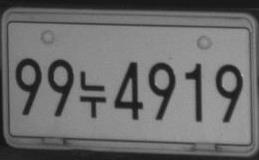1: (181, 62, 211, 122)
4: (114, 62, 143, 120)
9: (214, 64, 243, 123), (147, 61, 175, 120), (14, 57, 42, 115), (46, 58, 74, 116)
누: (79, 70, 106, 118)
